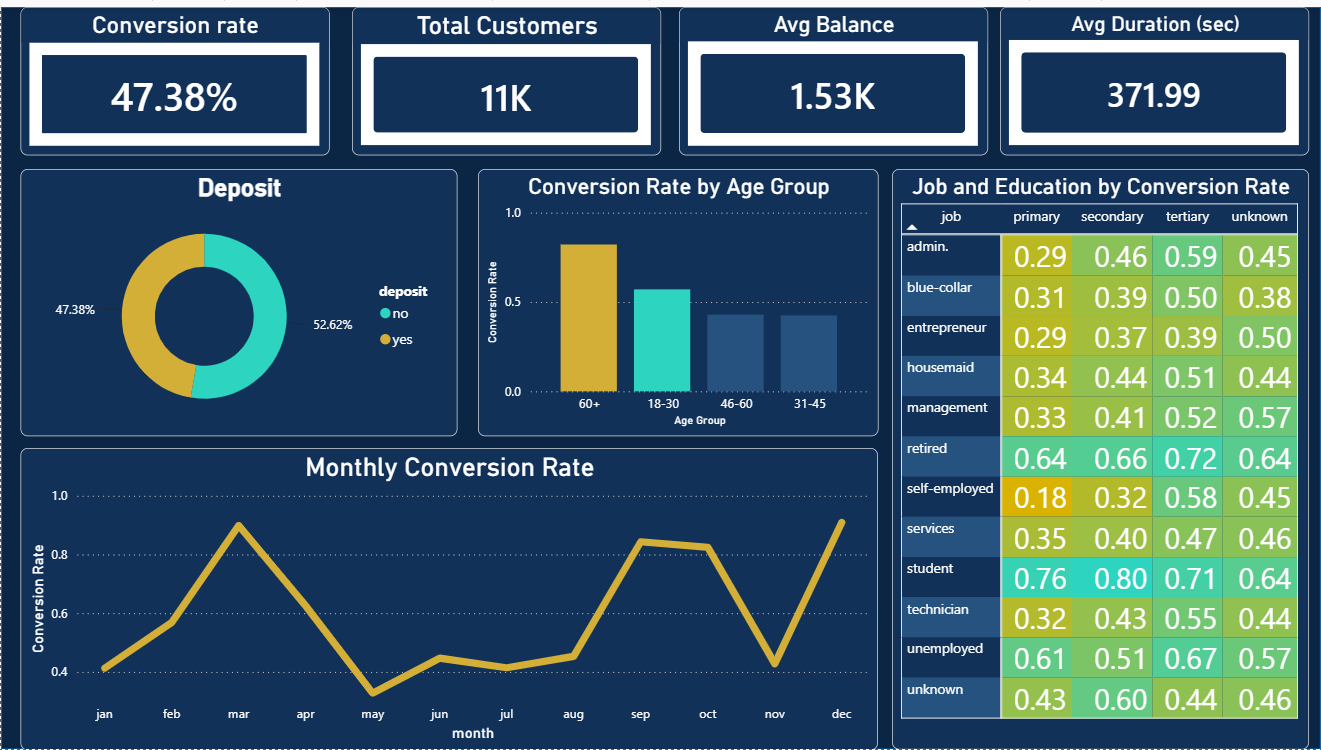

What the dashboard file says about the page in this screenshot:
{"tool":"powerbi","page":{"name":"Page 1","canvas":[1280,720],"ordinal":0},"visuals":[{"type":"shape","box":[0,0,1280.8,720.6],"z":0},{"type":"cardVisual","title":"Conversion rate","fields":{"Data":["bank_marketing bank.Conversion Rate"]},"box":[18.9,0,299.8,144.1],"z":1000},{"type":"cardVisual","title":"Total Customers","fields":{"Data":["bank_marketing bank.Total Customers"]},"box":[340.6,0,299.8,144.1],"z":2000},{"type":"cardVisual","title":"Avg Balance","fields":{"Data":["bank_marketing bank.Avg Balance"]},"box":[657.9,0,299.8,144.1],"z":3000},{"type":"cardVisual","title":"Avg Duration (sec)","fields":{"Data":["bank_marketing bank.Avg Duration (sec)"]},"box":[969.4,0,299.8,144.1],"z":4000},{"type":"donutChart","title":"Deposit","fields":{"Category":["bank_marketing bank.deposit"],"Y":["bank_marketing bank.Total Customers"]},"box":[19.4,157.1,424.2,259.1],"z":5000},{"type":"columnChart","fields":{"Category":["bank_marketing bank.Age Group"],"Y":["bank_marketing bank.Conversion Rate"]},"box":[463.1,157.1,388.6,259.1],"z":6000},{"type":"pivotTable","title":"Job and Education by Conversion Rate","fields":{"Rows":["bank_marketing bank.job"],"Columns":["bank_marketing bank.education"],"Values":["bank_marketing bank.Conversion Rate"]},"box":[864.7,157.1,404.8,563.5],"z":7000},{"type":"lineChart","title":"Monthly Conversion  Rate","fields":{"Y":["bank_marketing bank.Conversion Rate"],"Category":["bank_marketing bank.month"]},"box":[19.4,427.5,832.3,293.1],"z":8000}]}

Visuals, with their boxes in screenshot pixels (x1, y1, x2, y2), scaled from the page's 1280x720 canvas onto the 1321x750 screenshot:
shape: bbox=[0, 0, 1320, 749]
"Conversion rate" cardVisual: bbox=[20, 0, 329, 150]
"Total Customers" cardVisual: bbox=[352, 0, 661, 150]
"Avg Balance" cardVisual: bbox=[679, 0, 988, 150]
"Avg Duration (sec)" cardVisual: bbox=[1000, 0, 1310, 150]
"Deposit" donutChart: bbox=[20, 164, 458, 434]
columnChart - bank_marketing bank.Age Group x bank_marketing bank.Conversion Rate: bbox=[478, 164, 879, 434]
"Job and Education by Conversion Rate" pivotTable: bbox=[892, 164, 1310, 749]
"Monthly Conversion  Rate" lineChart: bbox=[20, 445, 879, 749]
